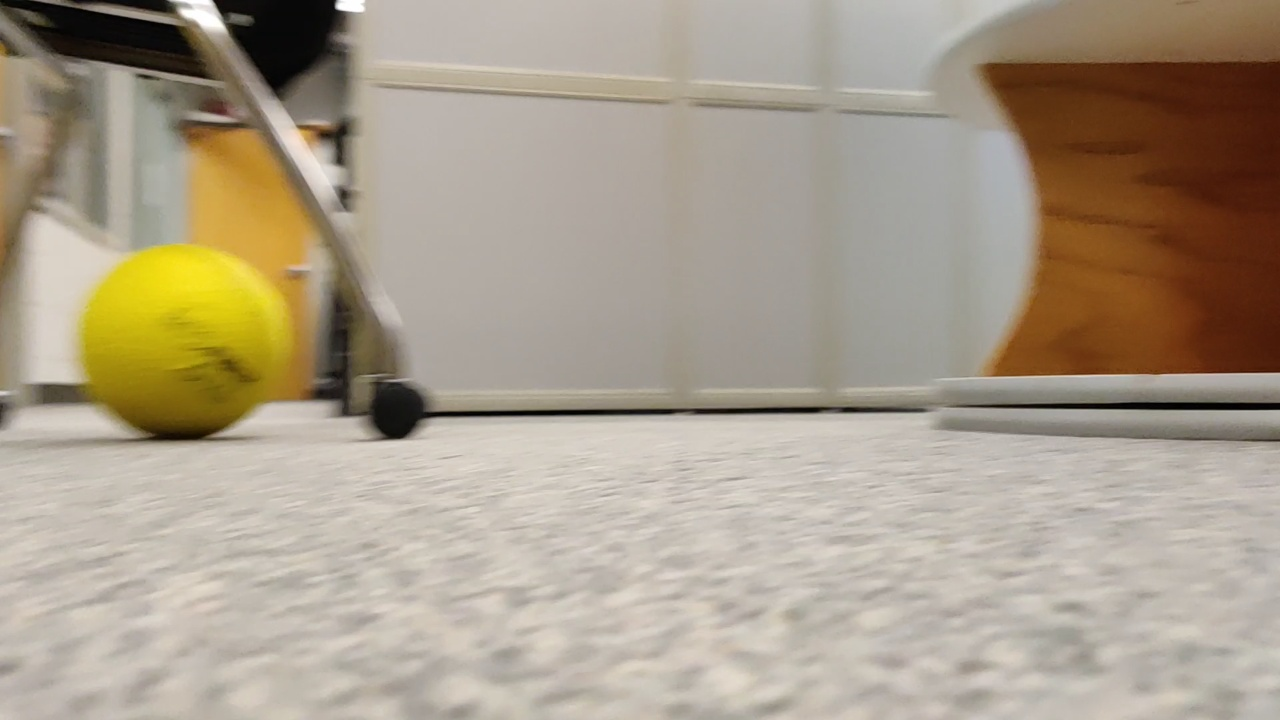Ball: (77, 244, 288, 448)
